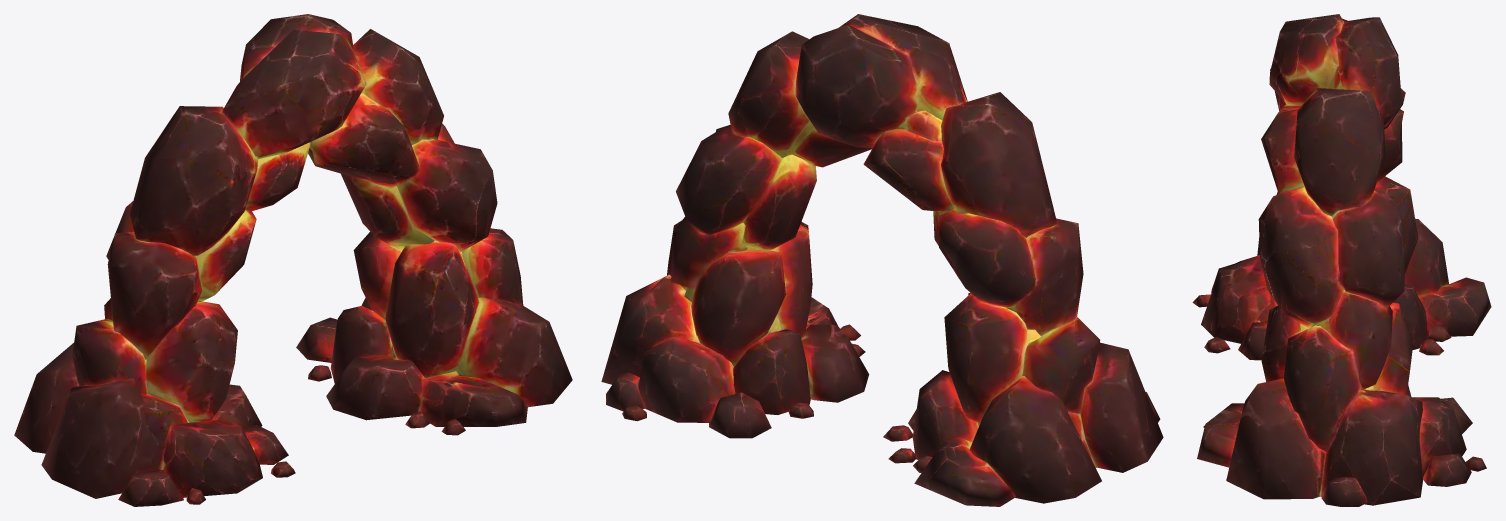
The model's file is lava_arch_1.glb.
3 renders of one model, left to right at view 1: azimuth 30°, elevation 25°; view 2: azimuth 150°, elevation 25°; view 3: azimuth 270°, elevation 25°, orthographic. The views are drawn at different scales.
Bounding box in the file's own units: 1 × 0.7148 × 0.5195.
1 material, 1 textured.
